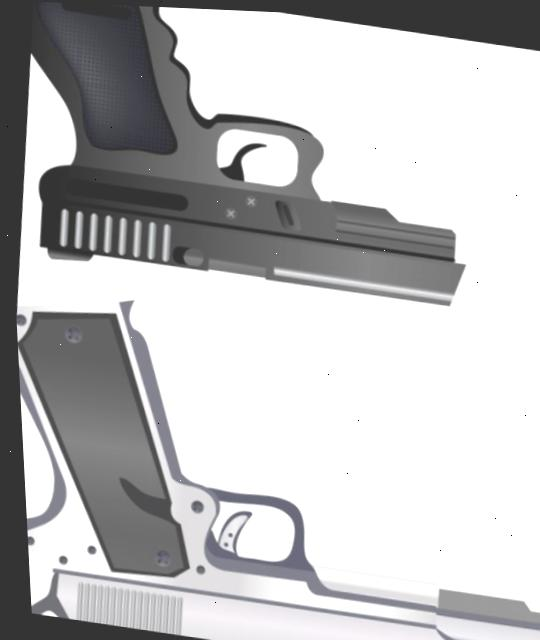pistol: (12, 290, 540, 640), (6, 0, 482, 313)
